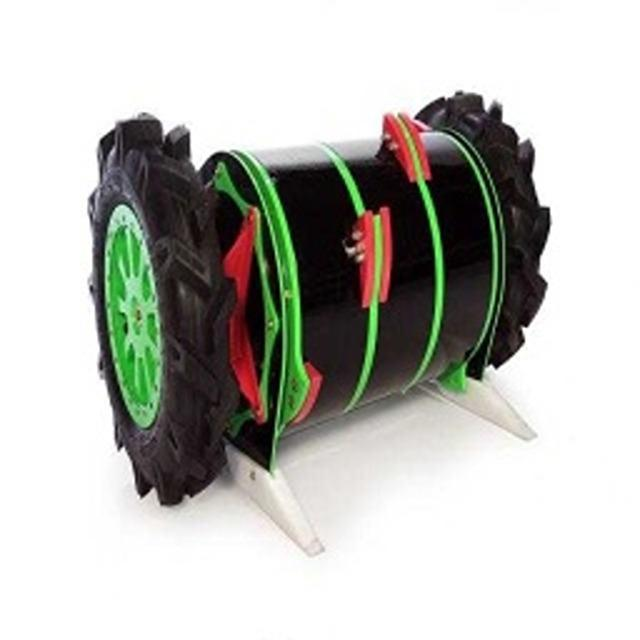ax: (78, 79, 566, 567)
